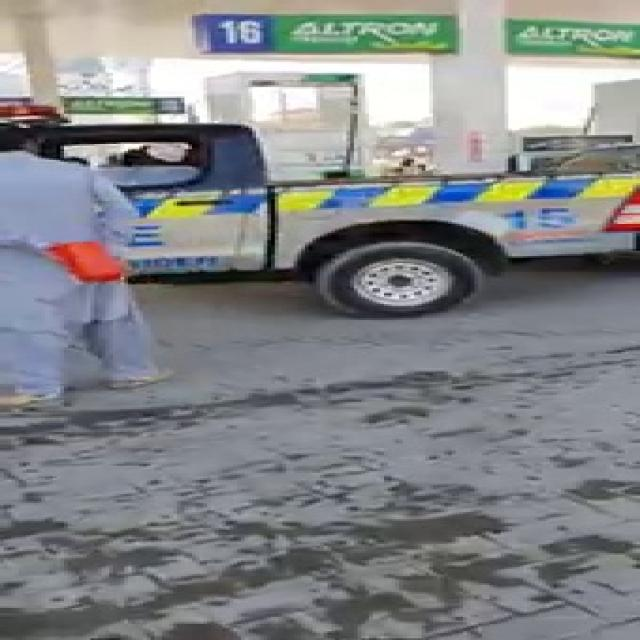police: (0, 105, 636, 283)
